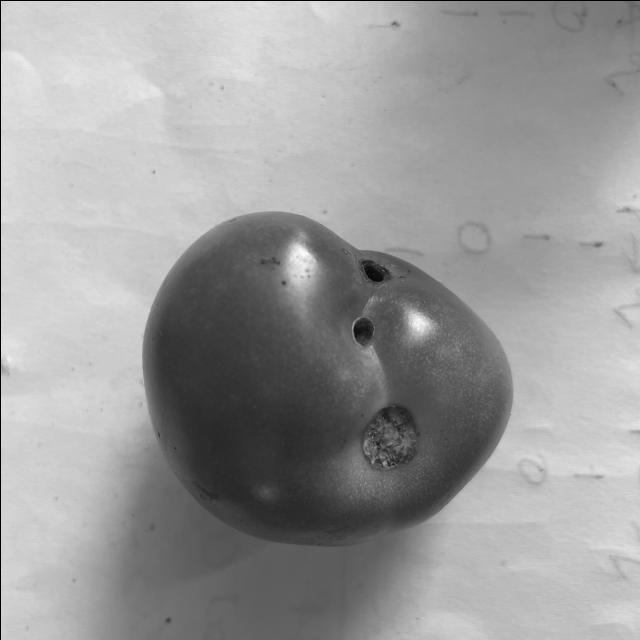fruitworm_bore: (344, 251, 394, 351)
